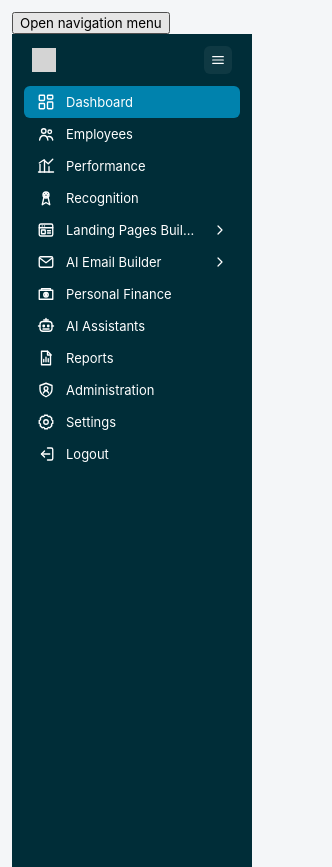
Test: AppSidebar navigation › collapses the group again on a second click
The image size is (332, 867).
Click the button "Landing Pages Builder": (132, 230) [24,214,240,246]
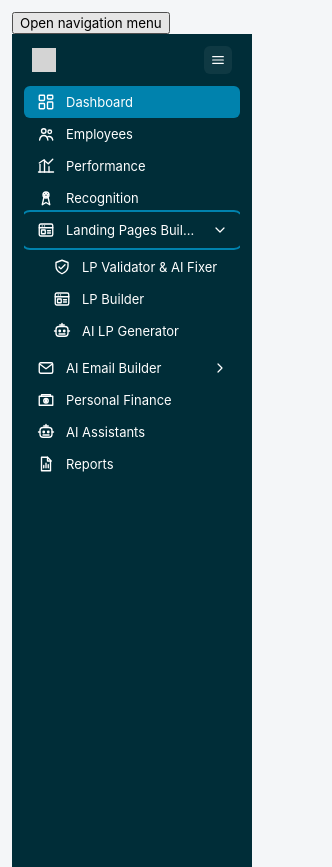
Expected: the link "LP Builder" is shown, [52,289,144,309]
Click the button "Landing Pages Builder": (132, 230) [24,214,240,246]
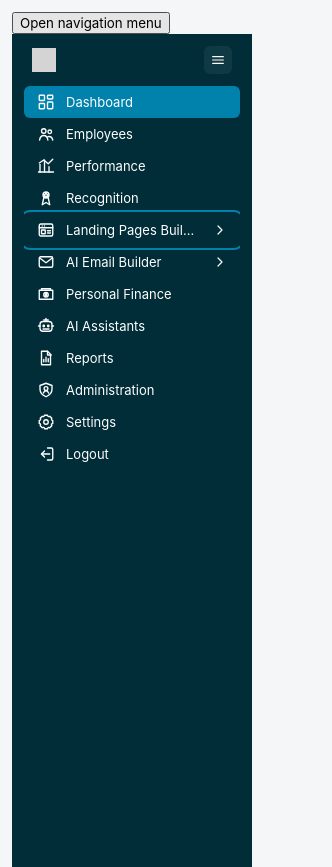
Expected: the link "LP Builder" is gone
Expected: the button "Landing Pages Builder" is collapsed, [24,214,240,246]
